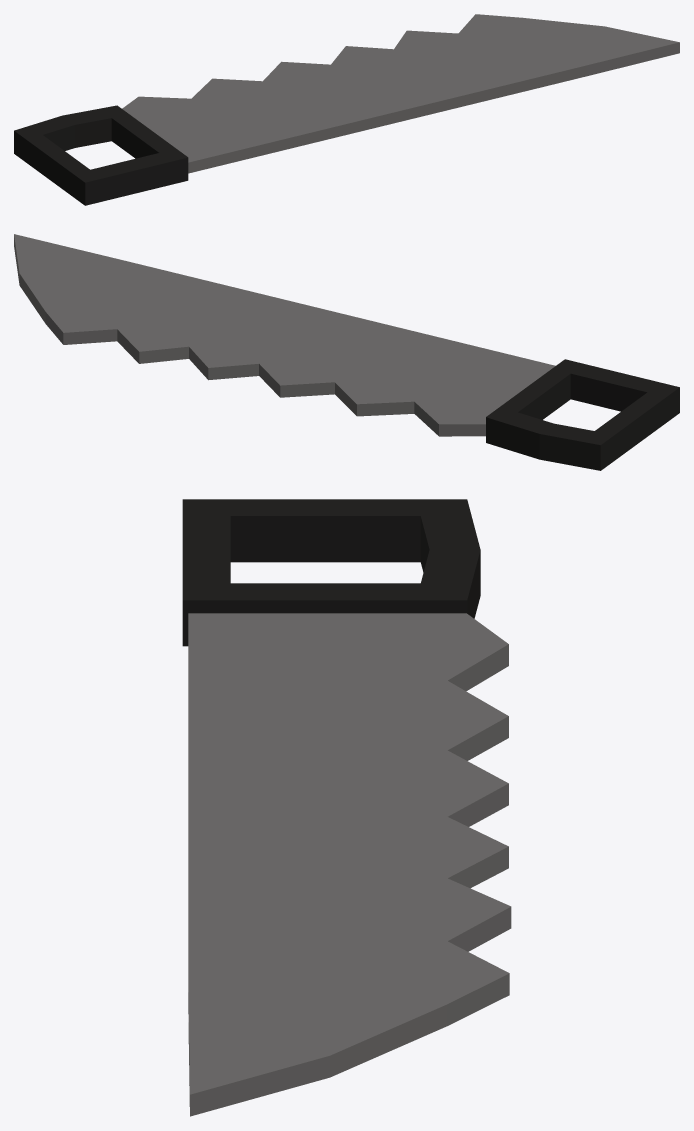
The model's file is clinicpuzzle2.fbx.
3 views of the same model, one above another, from view 1: azimuth 30°, elevation 25°; view 2: azimuth 150°, elevation 25°; view 3: azimuth 270°, elevation 25° (orthographic). The views are drawn at different scales.
Visible parts, largest first — view 1: clinic puzzle2; view 2: clinic puzzle2; view 3: clinic puzzle2.
Boxes of the visible parts, box(x1,y1,x2,y2) form: clinic puzzle2: box(14, 14, 679, 205); clinic puzzle2: box(14, 234, 679, 470); clinic puzzle2: box(182, 499, 511, 1116).
Bounding box in the file's own units: 277 × 10.27 × 66.18.
